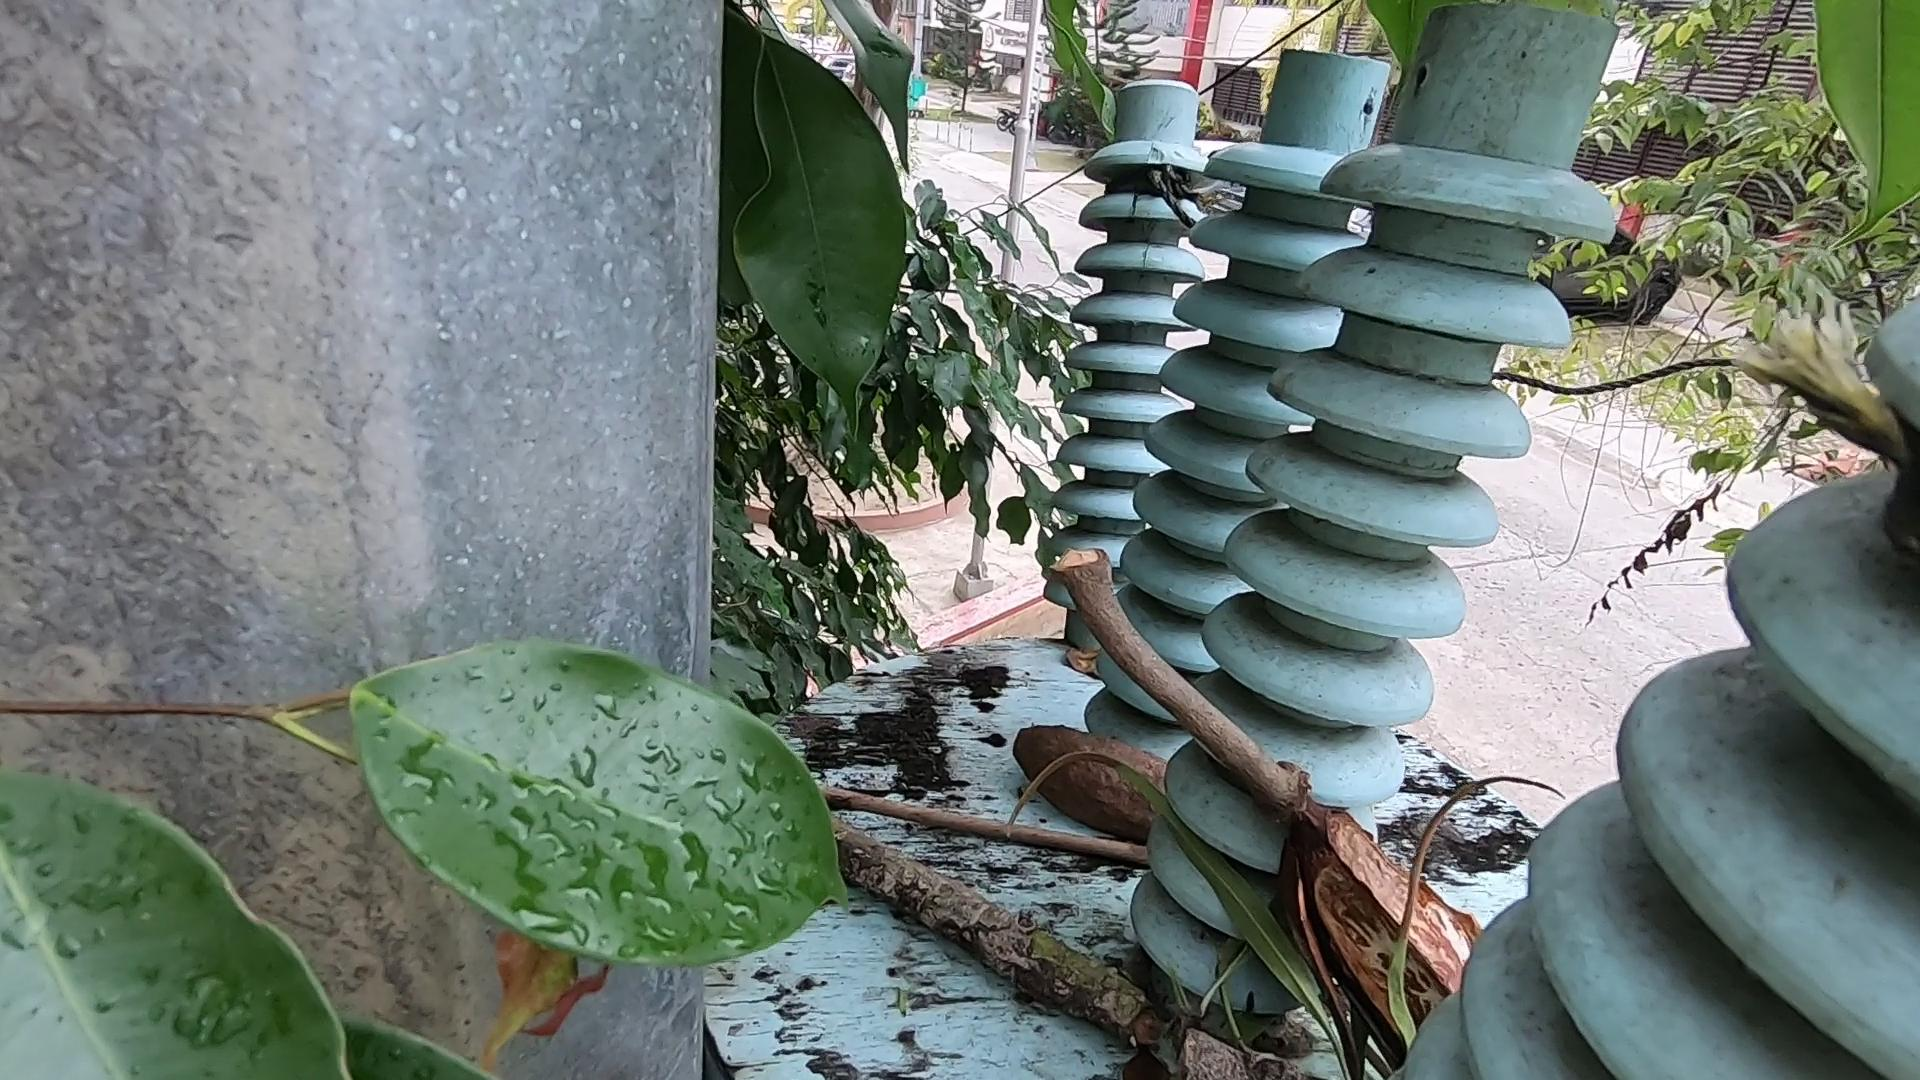branch with leaves: (785, 732, 1245, 1080)
leaf: (1010, 599, 1158, 686)
mahogany fruit: (1274, 774, 1425, 1009), (1025, 680, 1201, 873)
tree branch: (1001, 495, 1328, 874), (833, 794, 1262, 909)
